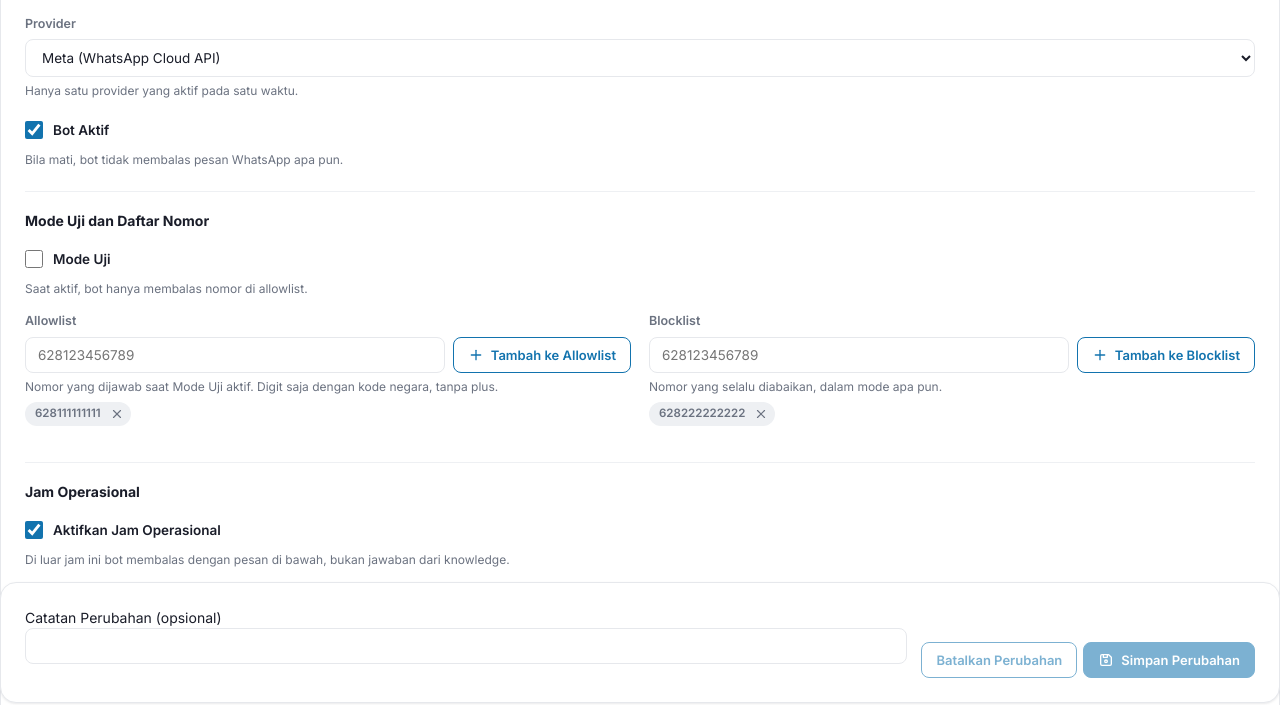
Test: Halaman Channel: pengaturan › nomor allowlist dinormalkan ke digit dan divalidasi 8 sampai 15 digit
(page scrolled)
Type "12345" into the field labelled "Allowlist".
click(235, 355); type("12345")  # box left=25, top=337, right=445, bottom=373
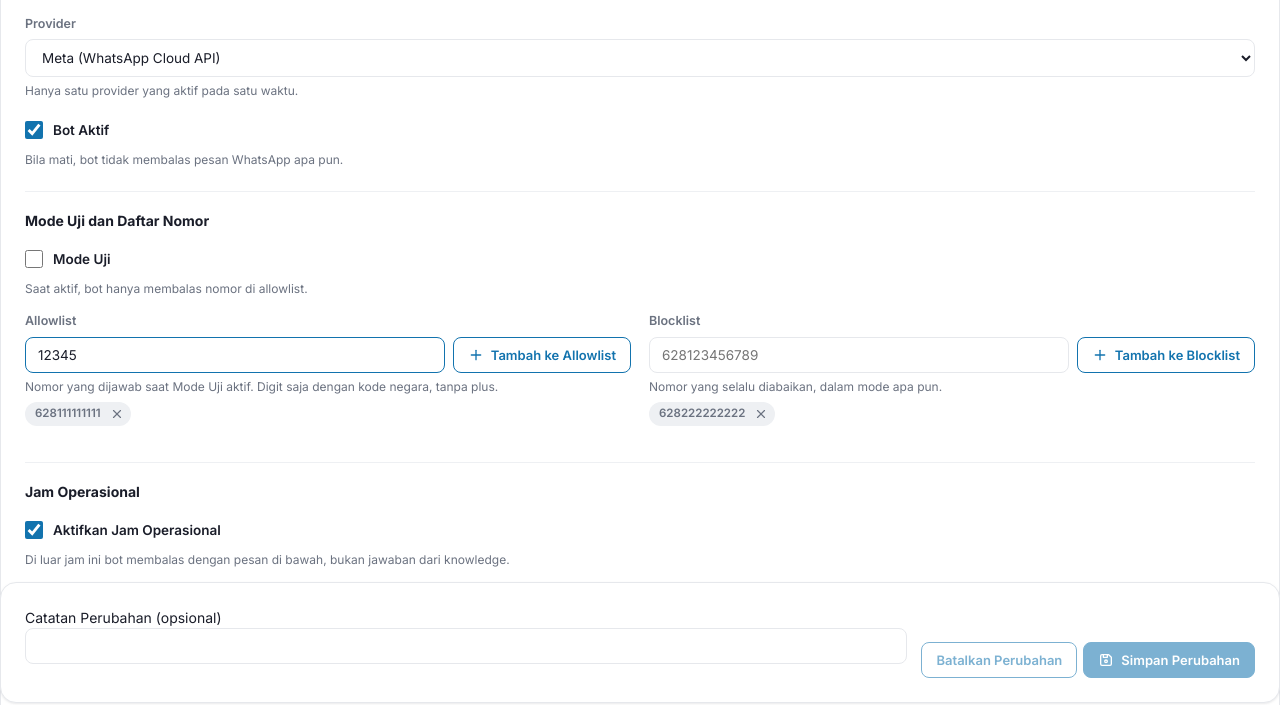
Click the button "Tambah ke Allowlist".
click(542, 355)  # box left=453, top=337, right=631, bottom=373
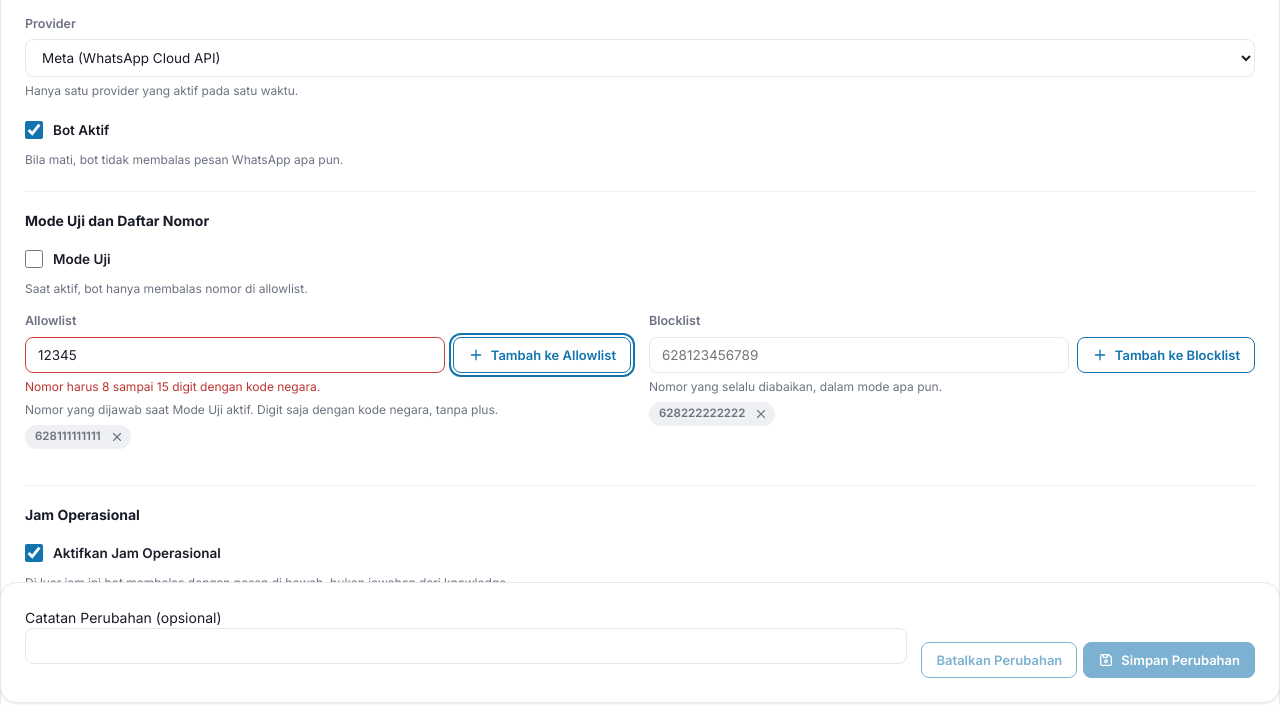
Now the text "Nomor harus 8 sampai 15 digit dengan kode negara." is shown, box left=25, top=379, right=320, bottom=394
Replace the text in the field labelled "Allowlist" with "+62 812-3456-7890" at (235, 355), box left=25, top=337, right=445, bottom=373
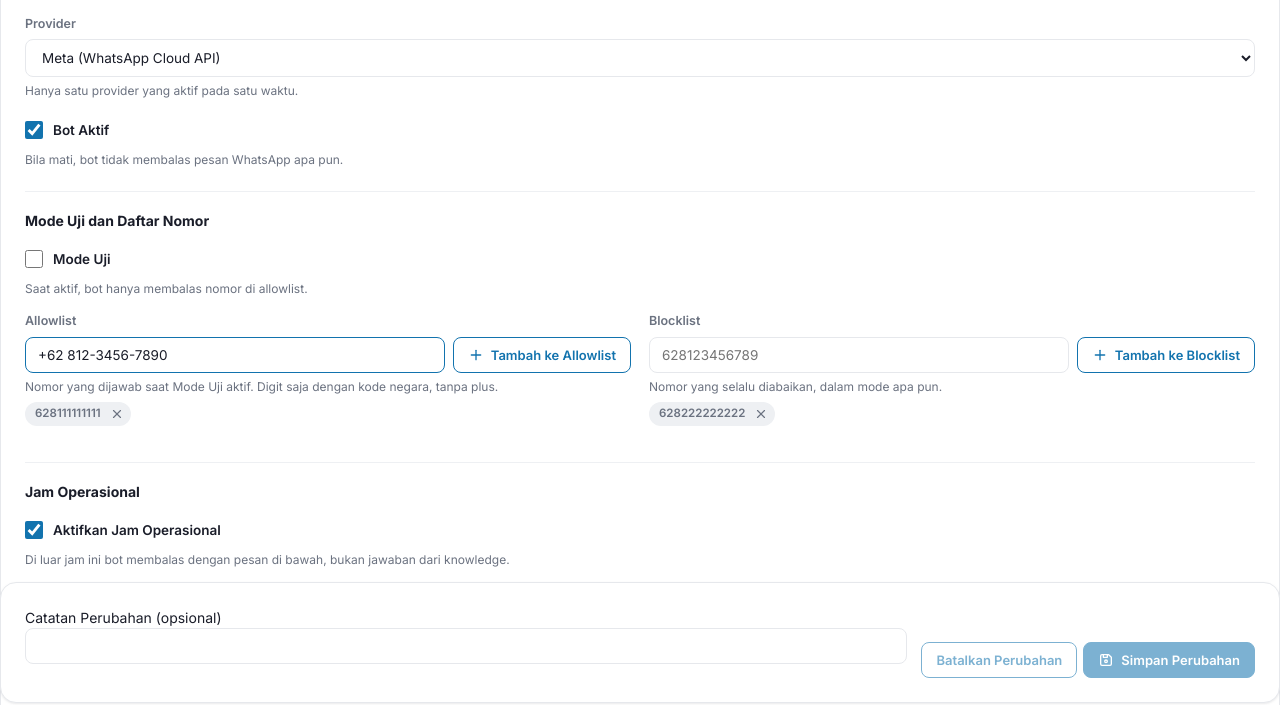
Click the button "Tambah ke Allowlist".
click(542, 355)  # box left=453, top=337, right=631, bottom=373
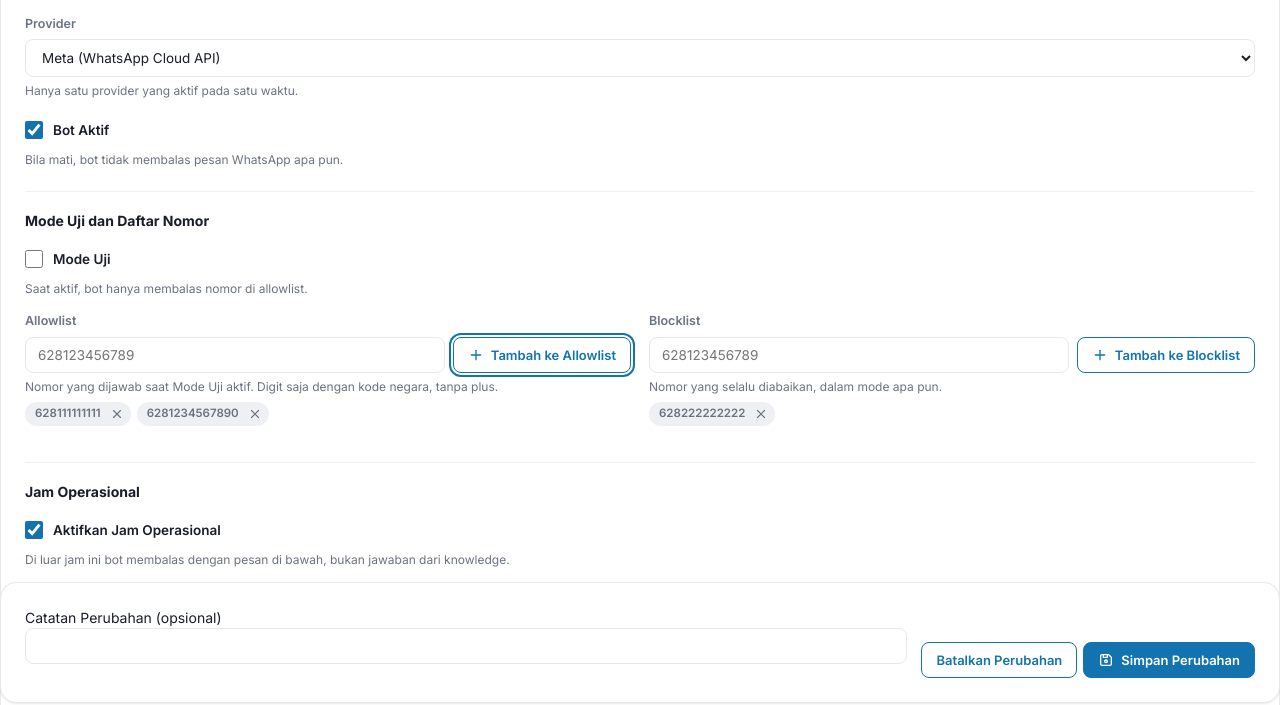
Expected: the text "Nomor harus 8 sampai 15 digit dengan kode negara." is not shown
Now the text "6281234567890" is shown, box left=147, top=405, right=239, bottom=423
Type "1234567890123456" into the field labelled "Blocklist".
click(859, 355); type("1234567890123456")  # box left=649, top=337, right=1069, bottom=373
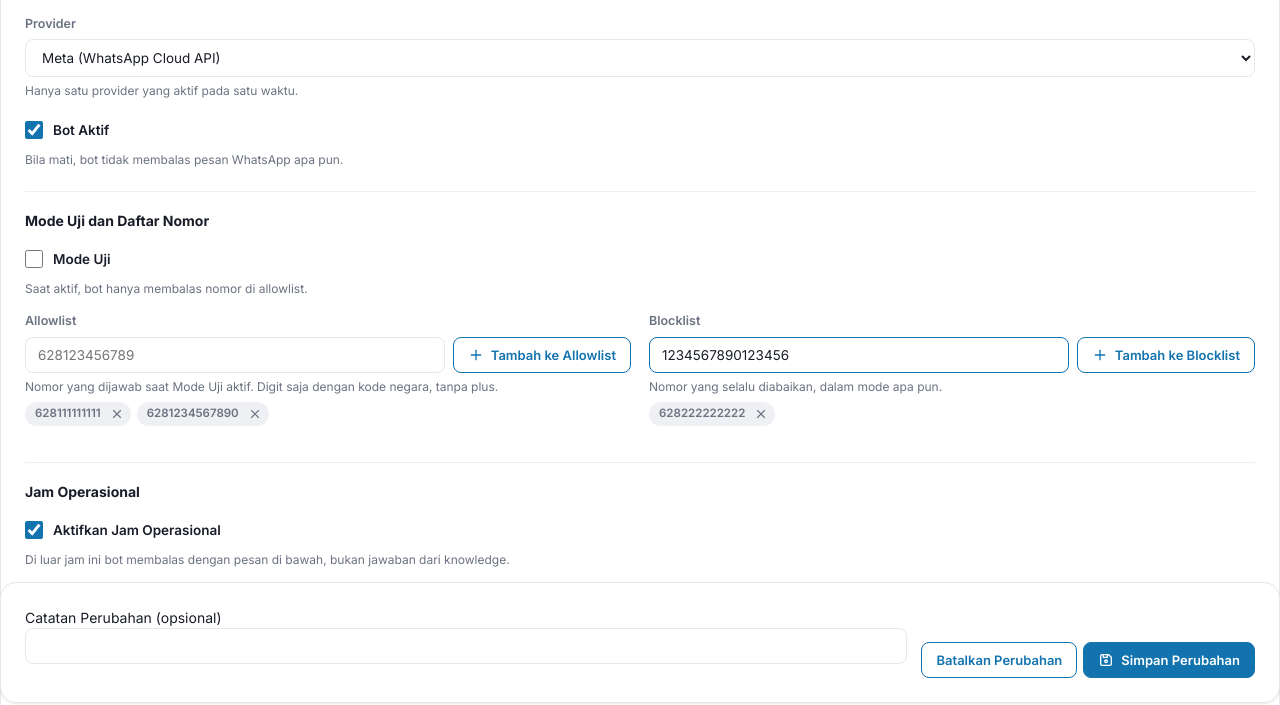
Click the button "Tambah ke Blocklist".
click(1166, 355)  # box left=1077, top=337, right=1255, bottom=373
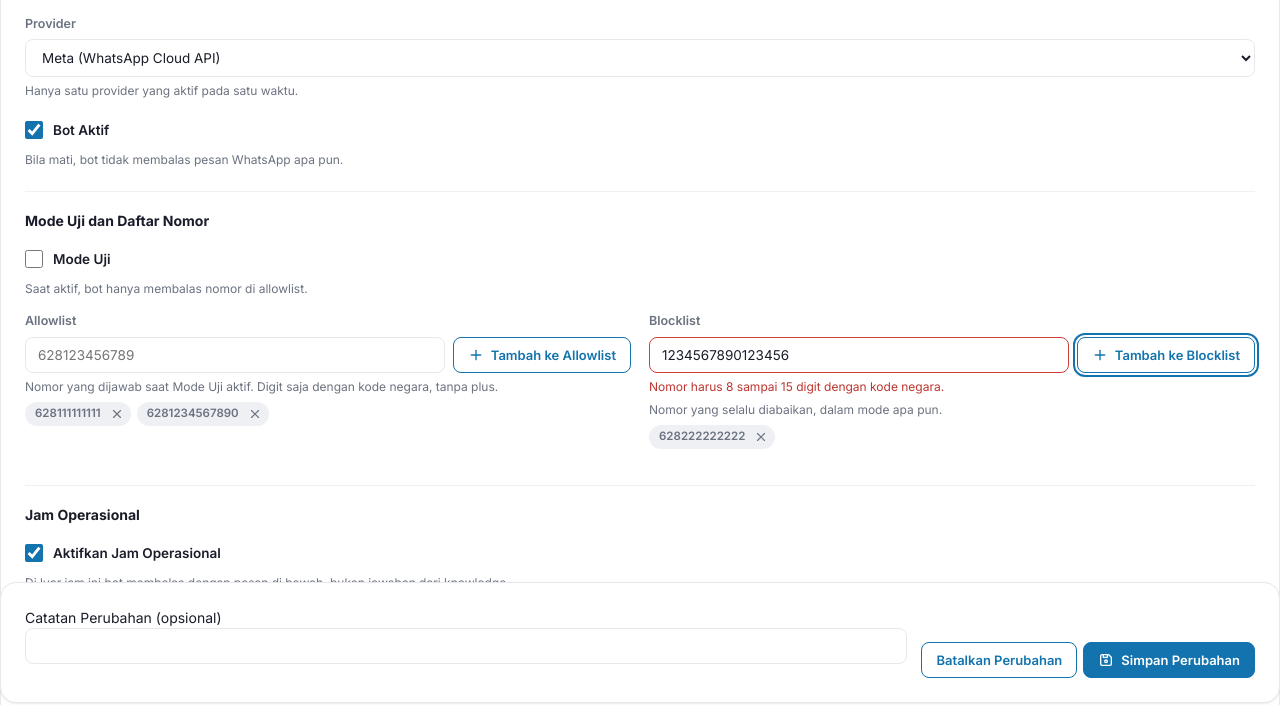
Now the text "Nomor harus 8 sampai 15 digit dengan kode negara." is shown, box left=649, top=379, right=944, bottom=394
